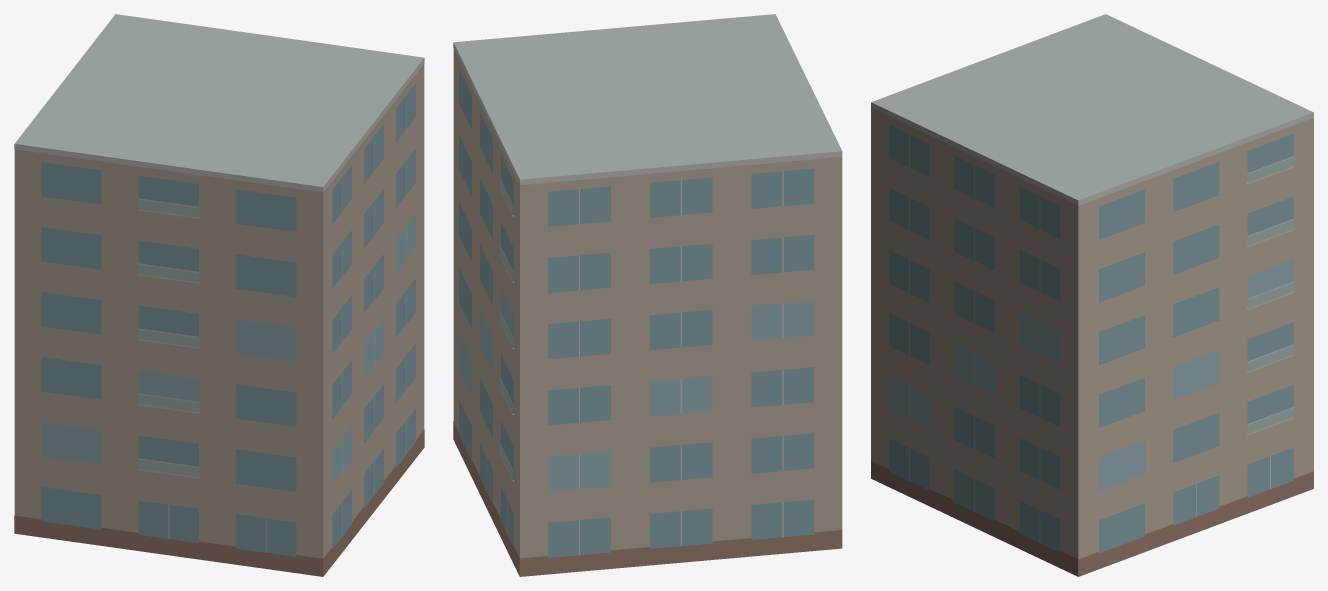
The model's file is survey-upis-32741724.glb.
3 views of the same model, side by side, from view 1: azimuth 30°, elevation 25°; view 2: azimuth 150°, elevation 25°; view 3: azimuth 270°, elevation 25° (orthographic). The views are drawn at different scales.
Visible parts, largest first — view 1: survey-upis-32741724.tmp; view 2: survey-upis-32741724.tmp; view 3: survey-upis-32741724.tmp.
Boxes of the visible parts, <box> form: survey-upis-32741724.tmp: <box>14,14,424,576</box>; survey-upis-32741724.tmp: <box>453,14,842,576</box>; survey-upis-32741724.tmp: <box>871,14,1313,576</box>.
Size of the model in its own units: 18.39 by 17.3 by 18.45.
